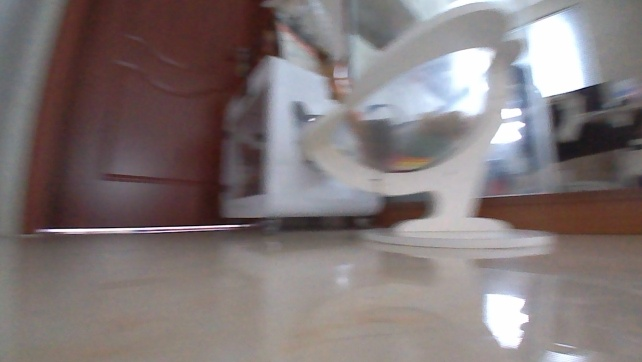door_anno: (15, 0, 277, 238)
